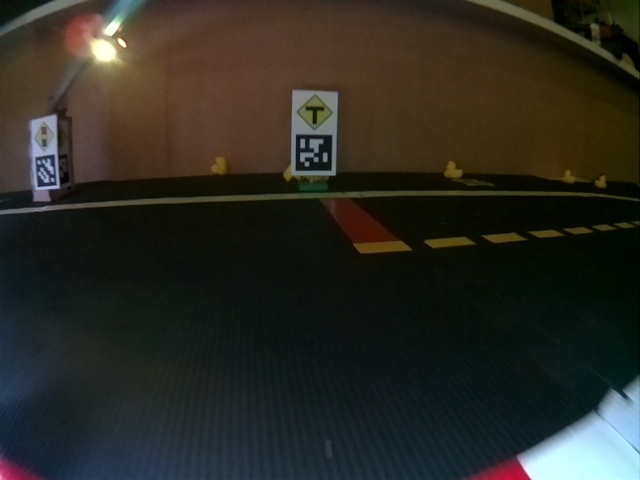Duckie: (283, 163, 300, 181), (444, 161, 462, 177), (212, 157, 227, 176), (563, 170, 576, 183), (595, 175, 606, 188)
Intersection sign: (296, 93, 332, 130)
QR code: (292, 133, 336, 175), (34, 156, 56, 187), (59, 154, 70, 184)
Signal sign: (31, 120, 56, 152)
